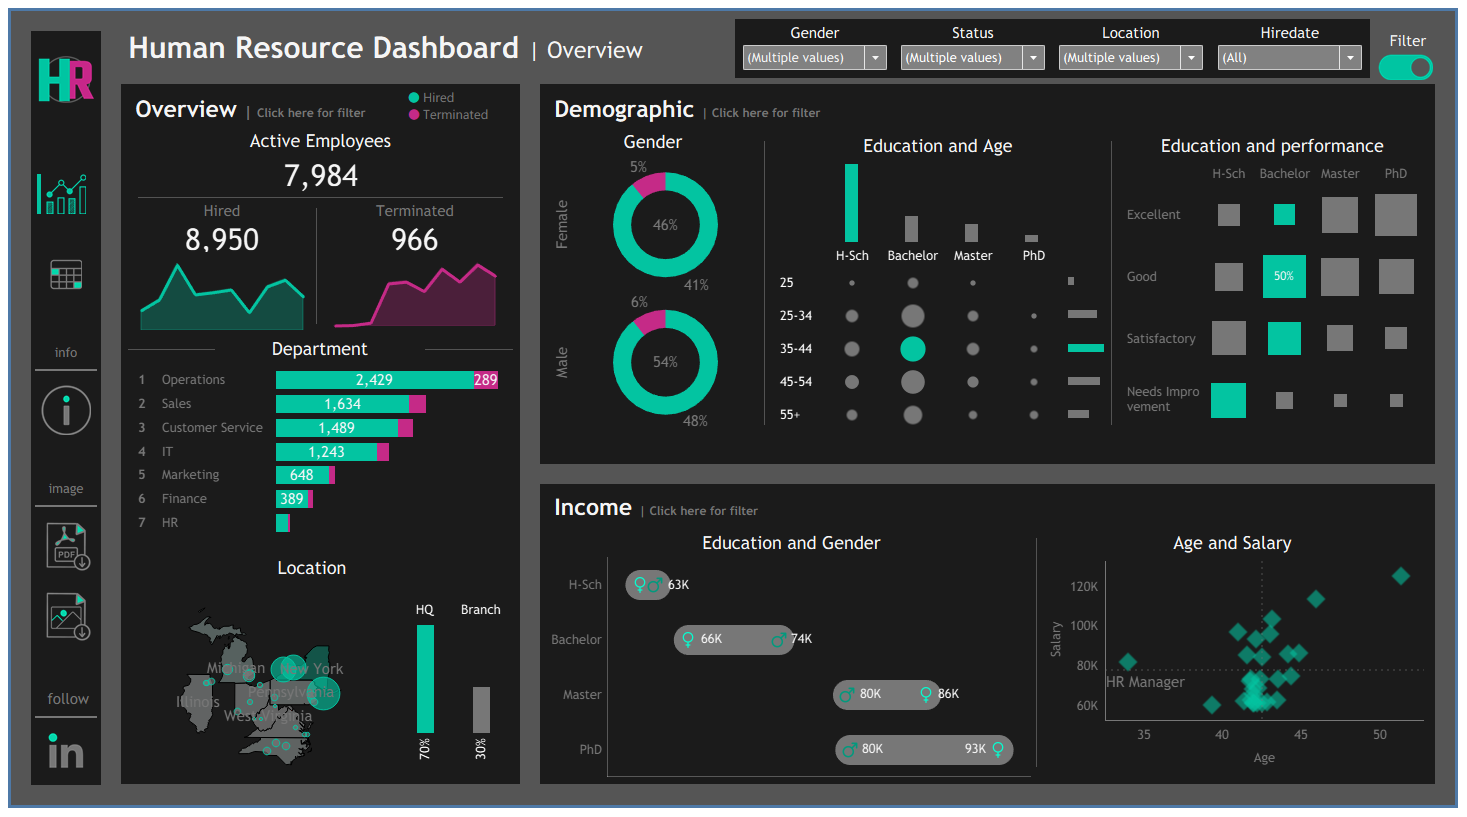

The dashboard page shown, as its layout file describes it:
{"tool":"tableau","page":{"name":"HR | Summary","canvas":[1450,800],"ordinal":1},"visuals":[{"type":"text","box":[113,3,695,73]},{"type":"blank","box":[808,3,619,73]},{"type":"filter","title":"Gender vs Education-Level","param":"[federated.08zalkq08hlpd0129zfwl0y4c90q].[none:Gender:nk]","box":[728,12,158.2,57]},{"type":"filter","title":"Gender vs Education-Level","param":"[federated.08zalkq08hlpd0129zfwl0y4c90q].[none:Calculation_0495336813854720:nk]","box":[886.2,12,158.2,57]},{"type":"filter","title":"Gender vs Education-Level","param":"[federated.08zalkq08hlpd0129zfwl0y4c90q].[none:Calculation_0608585873780740:nk]","box":[1044.5,12,158.2,57]},{"type":"filter","title":"Gender vs Education-Level","param":"[federated.08zalkq08hlpd0129zfwl0y4c90q].[yr:Hiredate:ok]","box":[1202.7,12,158.3,57]},{"type":"text","box":[1350,18,100,30]},{"type":"image","param":"Image/Logo.png","box":[23,23,70,96]},{"type":"blank","box":[101,23,1336,261]},{"type":"dashboard-object","box":[1370,31,55,57]},{"type":"text","box":[397,80,100,36]},{"type":"text","box":[120,83,385,35]},{"type":"text","box":[539,83,881,35]},{"type":"text","box":[120,118,385,29]},{"type":"blank","box":[23,119,70,32]},{"type":"text","box":[539,123,217,21]},{"type":"blank","box":[756,123,1,304]},{"type":"text","box":[762,123,336,29]},{"type":"blank","box":[1103,123,1,304]},{"type":"text","box":[1109,123,311,29]},{"type":"worksheet","title":"Gender","mark":"Pie","rows":["Gender"],"cols":["Calculation_0702319441403906","Calculation_0702319441403906"],"box":[539,144,217,283]},{"type":"worksheet","title":"BAN-Active","mark":"Automatic","box":[120,147,385,42]},{"type":"dashboard-object","box":[23,151,70,70]},{"type":"worksheet","title":"Education-groups","mark":"Bar","rows":["Calculation_0609410395418624"],"cols":["Education Level"],"box":[762,152,336,82]},{"type":"worksheet","title":"Education vs Performance","mark":"Square","rows":["Performance Rating"],"cols":["Education Level"],"box":[1109,152,311,275]},{"type":"blank","box":[29,166,4,40]},{"type":"blank","box":[120,189,385,1]},{"type":"text","box":[120,190,188,26]},{"type":"blank","box":[308,190,1,136]},{"type":"text","box":[314,190,186,26]},{"type":"worksheet","title":"BAN-Hired","mark":"Text","box":[120,216,188,32]},{"type":"worksheet","title":"BAN-Terminated","mark":"Text","box":[314,216,186,32]},{"type":"blank","box":[23,221,70,10]},{"type":"dashboard-object","box":[23,231,70,70]},{"type":"worksheet","title":"Age vs Education","mark":"Circle","rows":["Calculation_0702319447371780"],"cols":["Education Level"],"box":[762,234,298,193]},{"type":"worksheet","title":"age group","mark":"Bar","rows":["Calculation_0702319447371780"],"cols":["Calculation_0609410395418624"],"box":[1060,234,38,193]},{"type":"worksheet","title":"Hired By Year","mark":"Line","rows":["Calculation_0609410395418624","Calculation_0609410395418624"],"cols":["Hiredate"],"box":[120,248,188,78]},{"type":"worksheet","title":"Terminated By Year","mark":"Line","rows":["Calculation_0609410395553793","Calculation_0609410395553793"],"cols":["Termdate"],"box":[314,248,186,78]},{"type":"text","box":[101,284,1336,224]},{"type":"blank","box":[23,301,70,32]},{"type":"blank","box":[120,326,87,30]},{"type":"text","box":[207,326,210,30]},{"type":"blank","box":[417,326,88,30]},{"type":"text","box":[23,333,70,24]},{"type":"worksheet","title":"Departments","mark":"Bar","rows":["Calculation_0608585872506883","Department"],"cols":["Calculation_0609410395418624"],"box":[120,356,385,175]},{"type":"blank","box":[23,357,70,10]},{"type":"dashboard-object","box":[23,367,70,70]},{"type":"blank","box":[23,437,70,32]},{"type":"text","box":[23,469,70,24]},{"type":"text","box":[539,483,881,32]},{"type":"blank","box":[23,493,70,10]},{"type":"dashboard-object","box":[23,503,70,70]},{"type":"blank","box":[101,508,1336,271]},{"type":"text","box":[539,520,489,29]},{"type":"blank","box":[1028,520,1,249]},{"type":"text","box":[1029,520,391,29]},{"type":"blank","box":[120,531,91,57]},{"type":"text","box":[211,531,186,57]},{"type":"blank","box":[397,531,108,57]},{"type":"worksheet","title":"Gender vs Education-Level","mark":"Square","rows":["Education Level"],"cols":["Salary","Salary"],"box":[539,549,489,220]},{"type":"worksheet","title":"Age vs Salary","mark":"Shape","rows":["Salary"],"cols":["Calculation_0702319447056387"],"box":[1029,549,391,220]},{"type":"dashboard-object","box":[23,573,70,70]},{"type":"worksheet","title":"map-states","mark":"Automatic","box":[120,588,264.8,181]},{"type":"worksheet","title":"Location","mark":"Bar","rows":["Calculation_0609410395418624"],"cols":["Calculation_0608585873780740"],"box":[384.8,588,120.2,181]},{"type":"blank","box":[23,643,70,35]},{"type":"text","box":[23,678,70,26]},{"type":"blank","box":[23,704,70,10]},{"type":"image","param":"Image/contact-linkedin.png","box":[23,714,70,57]}]}

Visuals, with their boxes in screenshot pixels (x1, y1, x2, y2), scaled from the page's 1450x800 canvas onto the 1467x817 screenshot:
text: [114, 3, 817, 78]
blank: [817, 3, 1444, 78]
"Gender vs Education-Level" filter: [737, 12, 897, 70]
"Gender vs Education-Level" filter: [897, 12, 1057, 70]
"Gender vs Education-Level" filter: [1057, 12, 1217, 70]
"Gender vs Education-Level" filter: [1217, 12, 1377, 70]
text: [1366, 18, 1466, 49]
image: [23, 23, 94, 122]
blank: [102, 23, 1454, 290]
dashboard-object: [1386, 32, 1442, 90]
text: [402, 82, 503, 118]
text: [121, 85, 511, 121]
text: [545, 85, 1437, 121]
text: [121, 121, 511, 150]
blank: [23, 122, 94, 154]
text: [545, 126, 765, 147]
blank: [765, 126, 766, 436]
text: [771, 126, 1111, 155]
blank: [1116, 126, 1117, 436]
text: [1122, 126, 1437, 155]
"Gender" worksheet (Pie marks): [545, 147, 765, 436]
"BAN-Active" worksheet: [121, 150, 511, 193]
dashboard-object: [23, 154, 94, 226]
"Education-groups" worksheet (Bar marks): [771, 155, 1111, 239]
"Education vs Performance" worksheet (Square marks): [1122, 155, 1437, 436]
blank: [29, 170, 33, 210]
blank: [121, 193, 511, 194]
text: [121, 194, 312, 221]
blank: [312, 194, 313, 333]
text: [318, 194, 506, 221]
"BAN-Hired" worksheet (Text marks): [121, 221, 312, 253]
"BAN-Terminated" worksheet (Text marks): [318, 221, 506, 253]
blank: [23, 226, 94, 236]
dashboard-object: [23, 236, 94, 307]
"Age vs Education" worksheet (Circle marks): [771, 239, 1072, 436]
"age group" worksheet (Bar marks): [1072, 239, 1111, 436]
"Hired By Year" worksheet (Line marks): [121, 253, 312, 333]
"Terminated By Year" worksheet (Line marks): [318, 253, 506, 333]
text: [102, 290, 1454, 519]
blank: [23, 307, 94, 340]
blank: [121, 333, 209, 364]
text: [209, 333, 422, 364]
blank: [422, 333, 511, 364]
text: [23, 340, 94, 365]
"Departments" worksheet (Bar marks): [121, 364, 511, 542]
blank: [23, 365, 94, 375]
dashboard-object: [23, 375, 94, 446]
blank: [23, 446, 94, 479]
text: [23, 479, 94, 503]
text: [545, 493, 1437, 526]
blank: [23, 503, 94, 514]
dashboard-object: [23, 514, 94, 585]
blank: [102, 519, 1454, 796]
text: [545, 531, 1040, 561]
blank: [1040, 531, 1041, 785]
text: [1041, 531, 1437, 561]
blank: [121, 542, 213, 600]
text: [213, 542, 402, 600]
blank: [402, 542, 511, 600]
"Gender vs Education-Level" worksheet (Square marks): [545, 561, 1040, 785]
"Age vs Salary" worksheet (Shape marks): [1041, 561, 1437, 785]
dashboard-object: [23, 585, 94, 657]
"map-states" worksheet: [121, 600, 389, 785]
"Location" worksheet (Bar marks): [389, 600, 511, 785]
blank: [23, 657, 94, 692]
text: [23, 692, 94, 719]
blank: [23, 719, 94, 729]
image: [23, 729, 94, 787]
